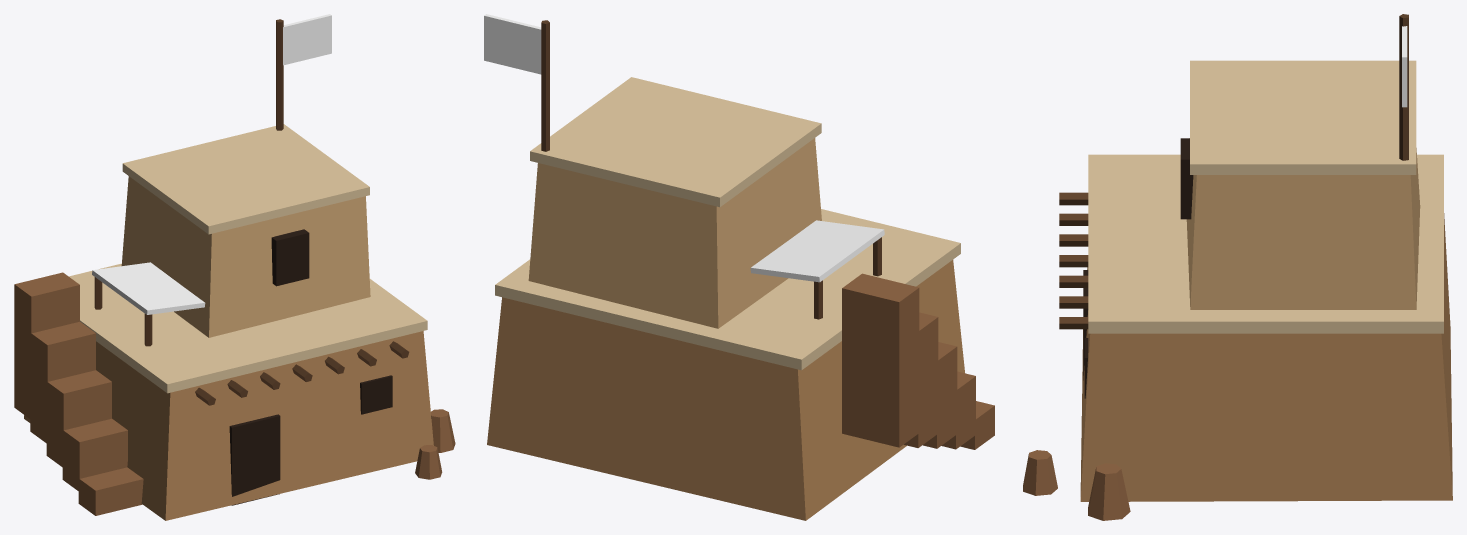
File: house.glb
3 renders of one model, left to right at view 1: azimuth 30°, elevation 25°; view 2: azimuth 150°, elevation 25°; view 3: azimuth 270°, elevation 25°, orthographic. The views are drawn at different scales.
Visible parts, largest first — view 1: part, part.002, part.001, part.003, part.018, part.017, part.016, part.004, part.015, part.019, part.014, part.024 (+5 smaller); view 2: part, part.002, part.003, part.001, part.018, part.019, part.024, part.017, part.016, part.015, part.023, part.014; view 3: part, part.002, part.001, part.003, part.025, part.026, part.023, part.005, part.024.
Part boxes in pixels (x1,y1,x2,y2): part: [24, 331, 433, 520]; part.002: [121, 176, 370, 337]; part.001: [69, 263, 427, 393]; part.003: [122, 124, 369, 234]; part.018: [14, 272, 79, 418]; part.017: [30, 321, 95, 443]; part.016: [46, 370, 111, 467]; part.004: [229, 414, 280, 505]; part.015: [62, 418, 127, 490]; part.019: [92, 262, 205, 314]; part.014: [78, 467, 143, 515]; part.024: [283, 14, 331, 65]; part: [487, 260, 964, 520]; part.002: [528, 138, 821, 328]; part.003: [530, 77, 821, 207]; part.001: [495, 209, 960, 370]; part.018: [842, 273, 919, 447]; part.019: [750, 220, 884, 282]; part.024: [484, 14, 541, 74]; part.017: [904, 312, 938, 447]; part.016: [923, 342, 957, 448]; part.015: [941, 371, 975, 449]; part.023: [541, 20, 549, 151]; part.014: [960, 401, 994, 449]; part: [1080, 213, 1452, 501]; part.002: [1186, 148, 1420, 309]; part.001: [1088, 154, 1443, 333]; part.003: [1190, 60, 1416, 174]; part.025: [1088, 463, 1130, 520]; part.026: [1023, 450, 1057, 495]; part.023: [1399, 14, 1408, 160]; part.005: [1180, 138, 1193, 219]; part.024: [1402, 26, 1407, 107].
Size of the model in its own units: 3.97 by 3.9 by 3.26.
